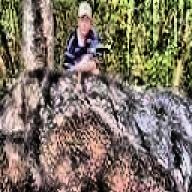boar: (0, 64, 192, 192)
